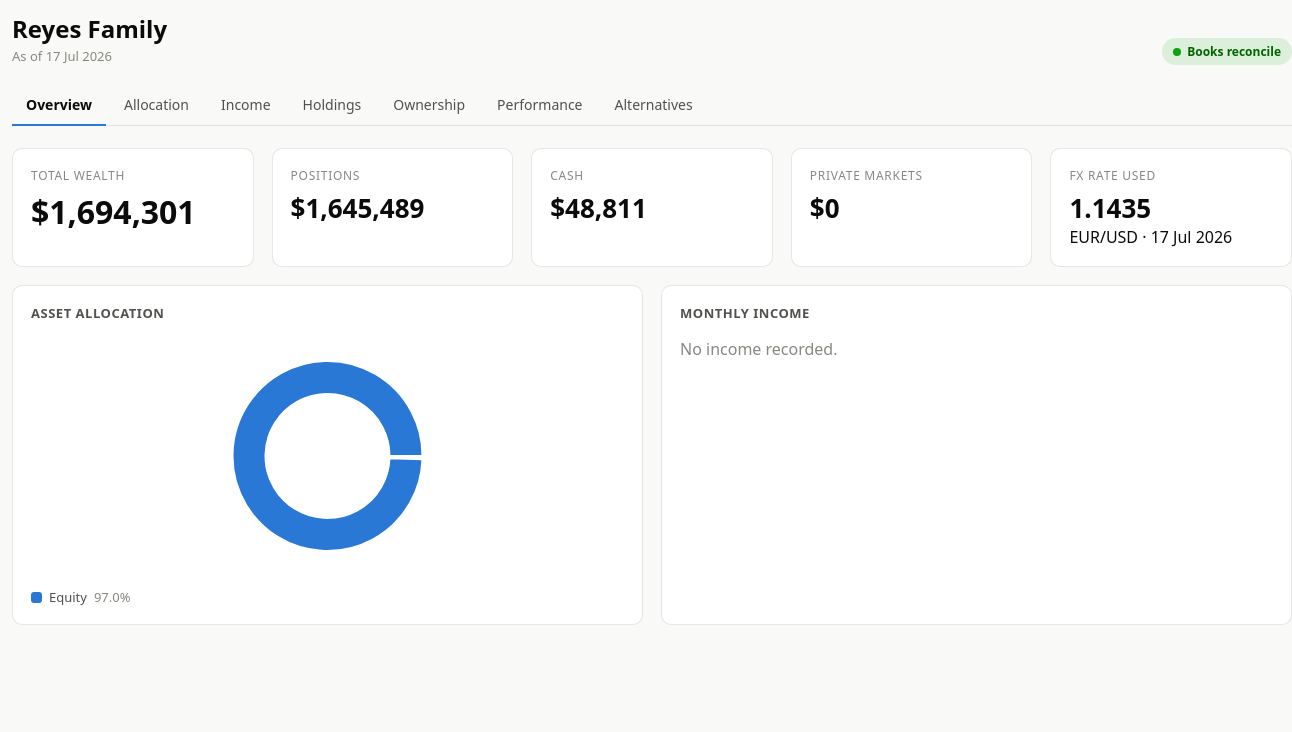
Test: ClientDashboard › shows the fund detail and a pending-review badge on the alternatives tab
This screenshot has width=1292, height=732.
Click the tab "Alternatives": (654, 106) [600,85,707,126]
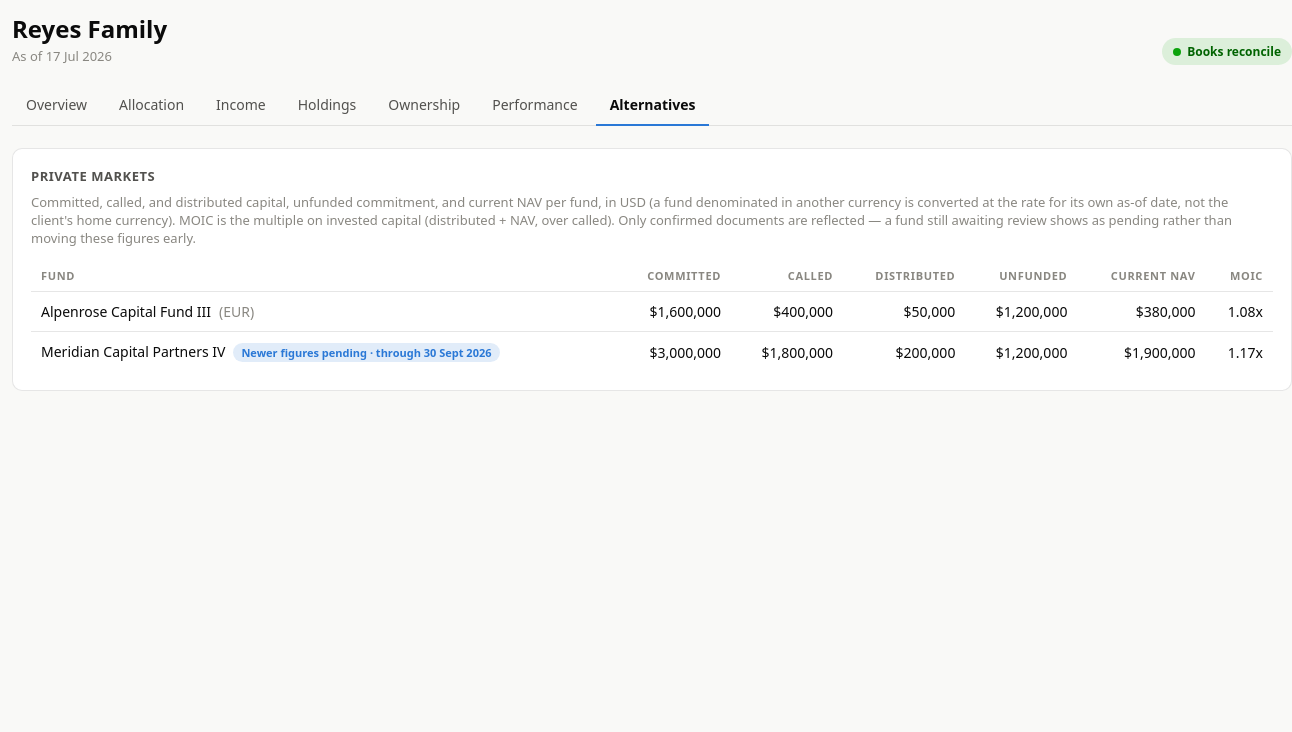
Check: the text "Meridian Capital Partners IV" is shown, box [41,342,225,361]
Check: the text "1.17x" is shown, box [1206,332,1273,372]
Check: the text "Newer figures pending · through 30 Sept 2026" is shown, box [233,343,500,362]
